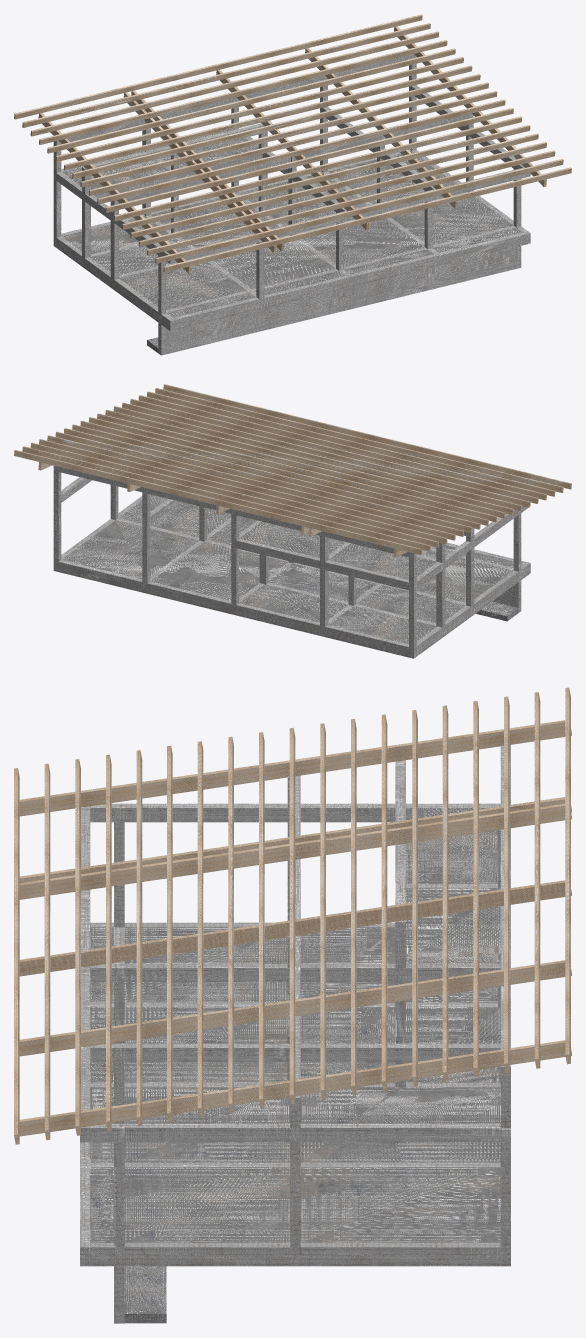
File: vivienda-andacollo.dae
3 views of the same model, one above another, from view 1: azimuth 30°, elevation 25°; view 2: azimuth 150°, elevation 25°; view 3: azimuth 270°, elevation 25° (orthographic). The views are drawn at different scales.
Parts seen in each view (by area): view 1: SketchUp (×19), Plateas (×14), Vig2_2 (×3), Col_y_muro, laminada (×6), Vig3_1 (×4), Vig1_2 (×4), Columnas_1 (×4), Vig4_1 (×3), Losas_1 (×2); view 2: SketchUp (×19), Plateas (×9), Vig2_2 (×3), Columnas_1 (×8), Vig3_1 (×5), Losas_1 (×2), Vig4_1 (×4), zapata, Col_y_muro; view 3: Plateas (×14), SketchUp (×19), laminada (×6), Vig3_1 (×10), Vig2_2 (×2), Losas_1 (×2), Columnas_1 (×5), zapata, Vig4_1.
Boxes of the visible parts, <box> form: SketchUp (×19): <box>14,14,571,272</box>; Plateas (×14): <box>61,151,522,317</box>; Vig2_2 (×3): <box>53,149,530,331</box>; Col_y_muro: <box>158,246,521,347</box>; laminada (×6): <box>38,26,546,273</box>; Vig3_1 (×4): <box>53,128,530,264</box>; Vig1_2 (×4): <box>158,260,521,355</box>; Columnas_1 (×4): <box>53,141,264,299</box>; Vig4_1 (×3): <box>82,123,290,205</box>; Losas_1 (×2): <box>62,130,258,189</box>; SketchUp (×19): <box>14,384,571,554</box>; Plateas (×9): <box>62,494,512,644</box>; Vig2_2 (×3): <box>53,496,530,658</box>; Columnas_1 (×8): <box>53,466,521,648</box>; Vig3_1 (×5): <box>53,477,518,591</box>; Losas_1 (×2): <box>239,521,436,579</box>; Vig4_1 (×4): <box>53,466,416,558</box>; zapata: <box>475,601,518,621</box>; Col_y_muro: <box>495,580,521,605</box>; Plateas (×14): <box>90,927,500,1242</box>; SketchUp (×19): <box>14,687,570,1144</box>; laminada (×6): <box>19,720,571,1136</box>; Vig3_1 (×10): <box>80,803,510,1142</box>; Vig2_2 (×2): <box>80,922,510,1266</box>; Losas_1 (×2): <box>406,808,500,963</box>; Columnas_1 (×5): <box>114,805,510,1247</box>; zapata: <box>124,1266,166,1323</box>; Vig4_1: <box>395,843,405,936</box>.
Size of the model in its own units: 650 by 418 by 240.
4 materials, 3 textured.
